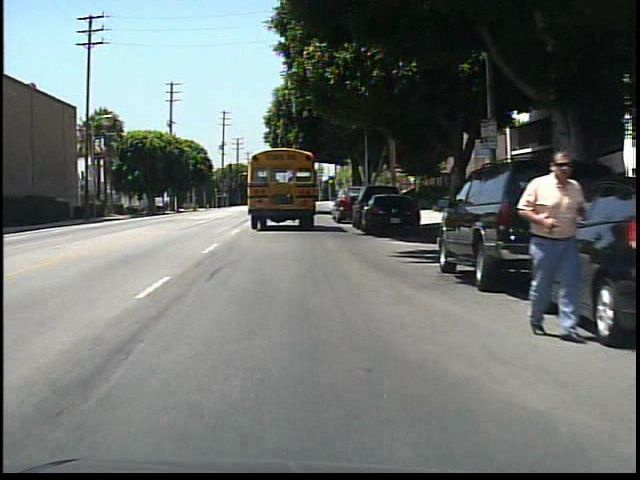person: (505, 144, 581, 344)
